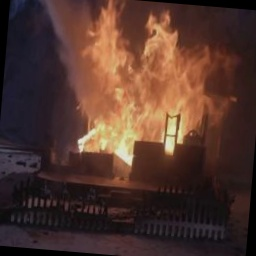fire: (55, 0, 238, 174)
